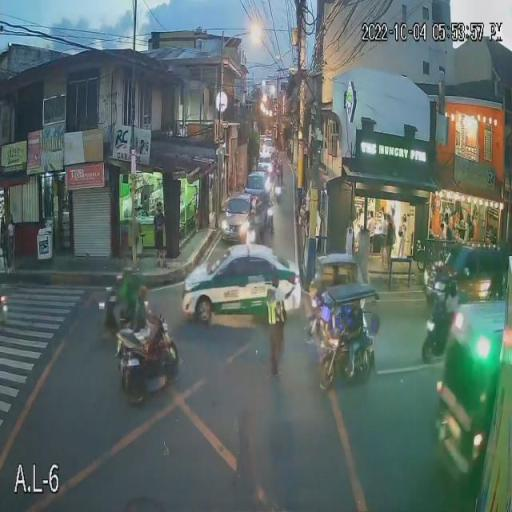helmet: (120, 259, 142, 276), (448, 284, 462, 298)
motorcycle: (110, 312, 180, 404), (306, 344, 380, 390), (98, 290, 152, 337), (420, 312, 458, 362)
rider: (334, 306, 370, 375), (125, 290, 155, 370), (433, 283, 471, 344), (112, 264, 142, 328)
